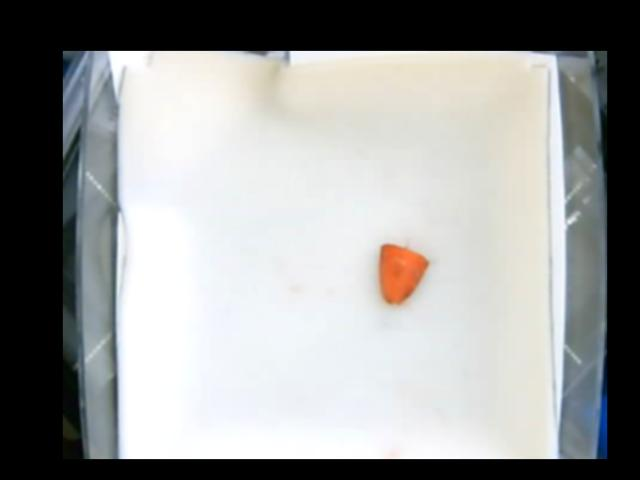Carrot: (378, 243, 427, 303)
